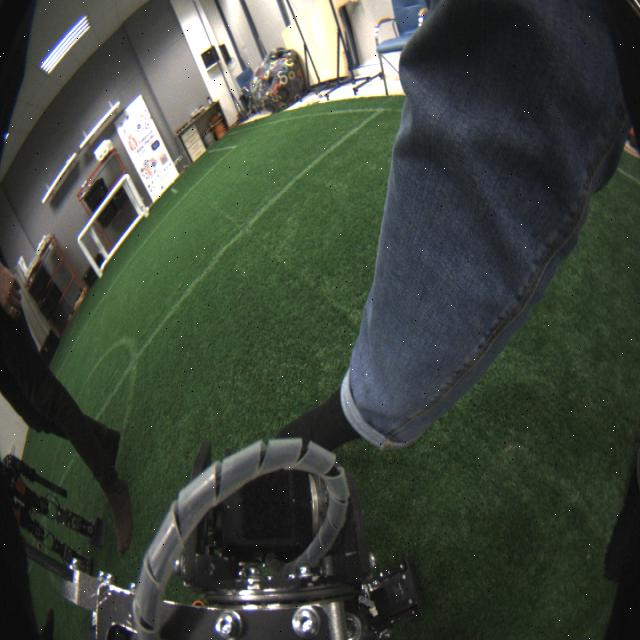goalpost: (74, 234, 104, 278), (124, 171, 148, 216)
